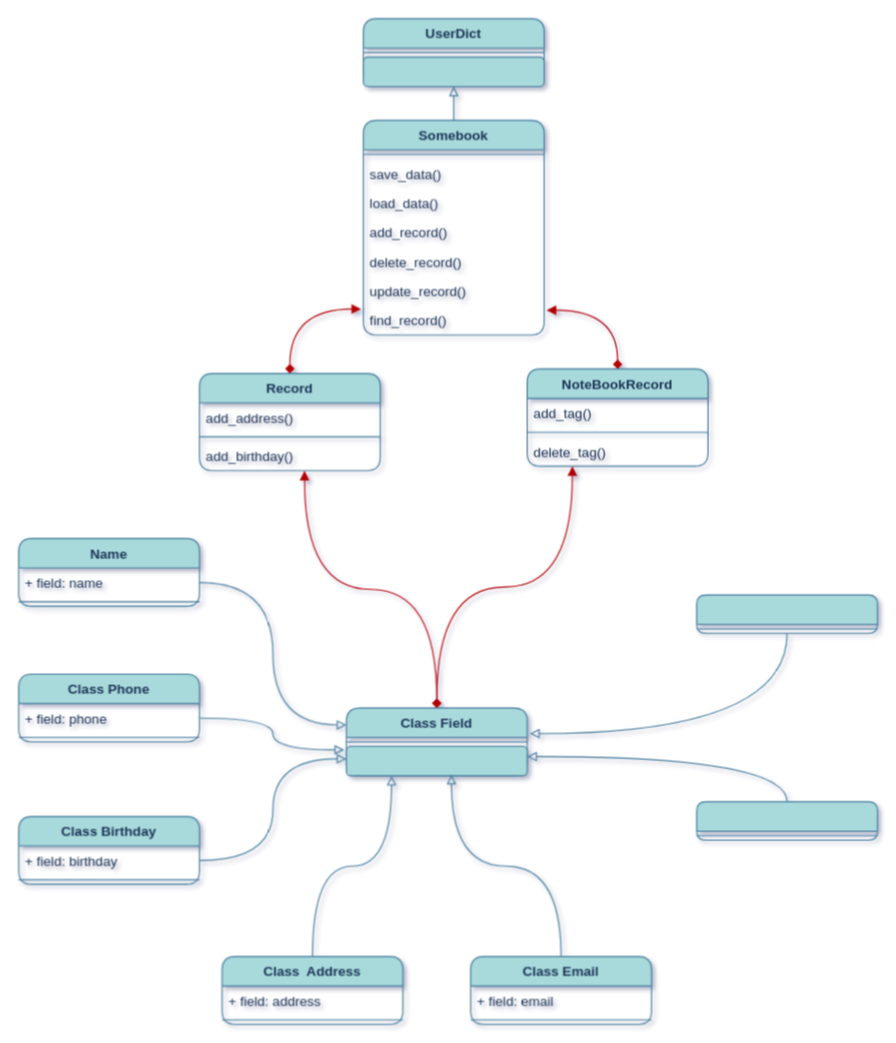
Some shapes in this 896 by 1043 pixel diagram are drawn without their labels. The centre of each missing label's shape, as x and y in pixels:
"NoteBookTag" belongs at (x=786, y=613).
"NoteBookText" belongs at (x=786, y=820).
